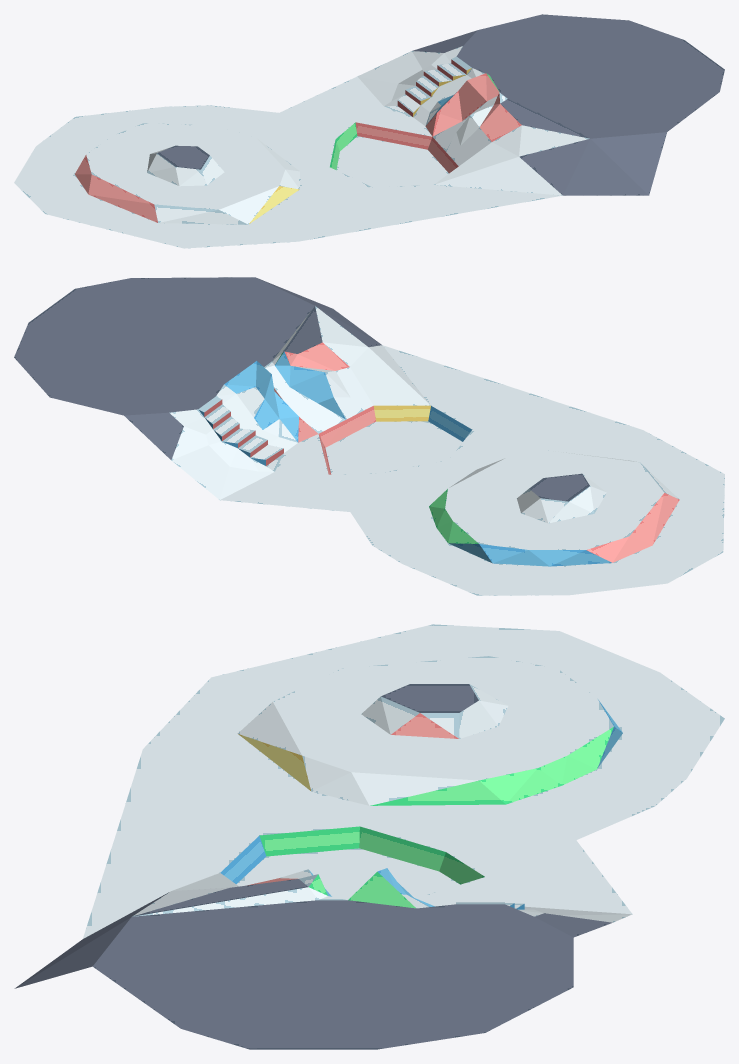
The model's file is MapFinalV0.1.glb.
3 renders of one model, top to bottom at view 1: azimuth 30°, elevation 25°; view 2: azimuth 150°, elevation 25°; view 3: azimuth 270°, elevation 25°, orthographic. The views are drawn at different scales.
Visible parts, largest first — view 1: beveled_cuboid; view 2: beveled_cuboid; view 3: beveled_cuboid.
Part boxes in pixels (box(x1,y1,x2,y2)): beveled_cuboid: box(14, 14, 724, 248); beveled_cuboid: box(14, 277, 724, 595); beveled_cuboid: box(14, 624, 724, 1049).
Bounding box in the file's own units: 3.62 × 0.3438 × 2.26.
1 material, 1 textured.
